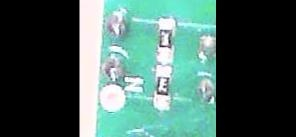chip-resistor: (152, 63, 176, 110), (155, 16, 178, 60)
